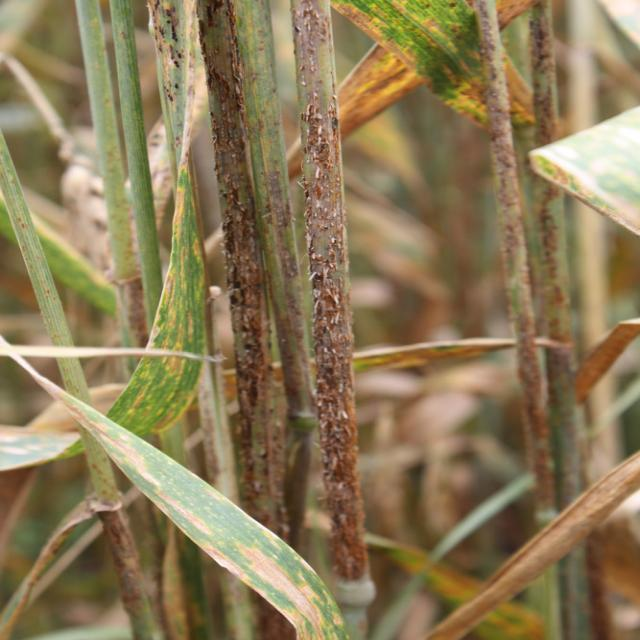wheat-stemrust: (197, 0, 493, 609), (473, 0, 561, 512), (528, 173, 587, 502), (150, 0, 193, 159), (531, 3, 560, 142)
